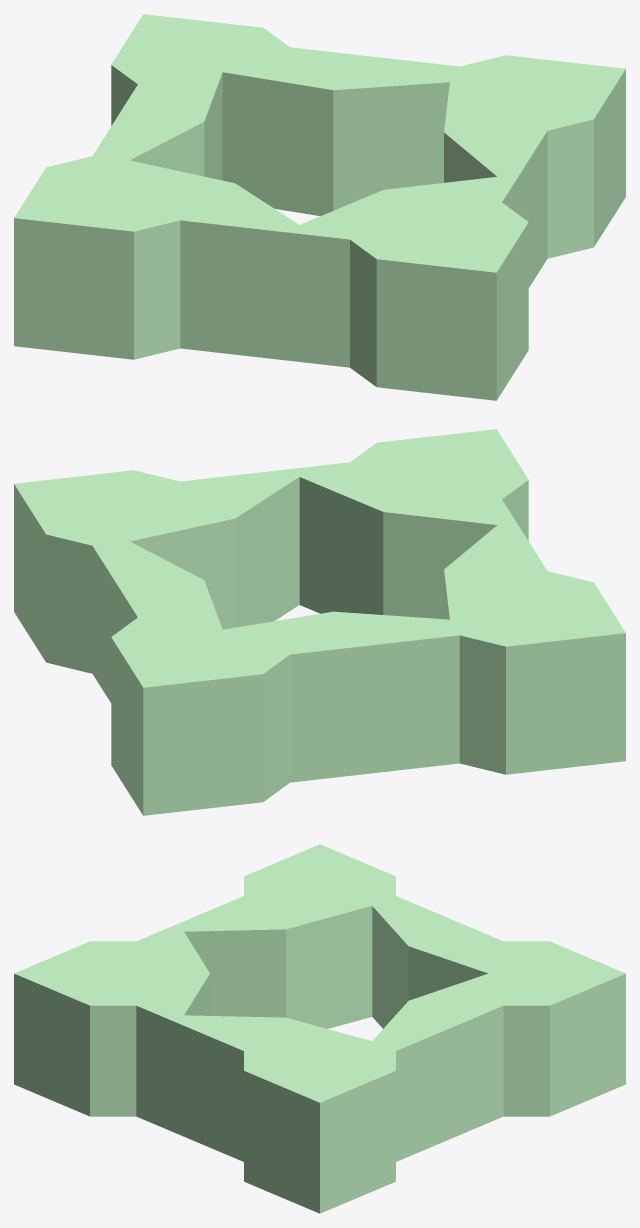
3 renders of one model, top to bottom at view 1: azimuth 30°, elevation 25°; view 2: azimuth 150°, elevation 25°; view 3: azimuth 270°, elevation 25°, orthographic. The views are drawn at different scales.
Parts seen in each view (by area): view 1: Mesh1 Difference Model; view 2: Mesh1 Difference Model; view 3: Mesh1 Difference Model.
Part boxes in pixels (<box>): Mesh1 Difference Model: <box>14,14,625,400</box>; Mesh1 Difference Model: <box>14,429,625,815</box>; Mesh1 Difference Model: <box>14,844,625,1213</box>.
Size of the model in its own units: 1 by 0.2 by 1.
